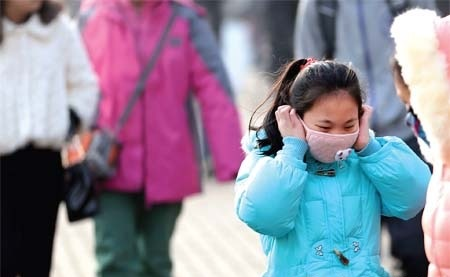face_mask: (306, 99, 362, 162)
